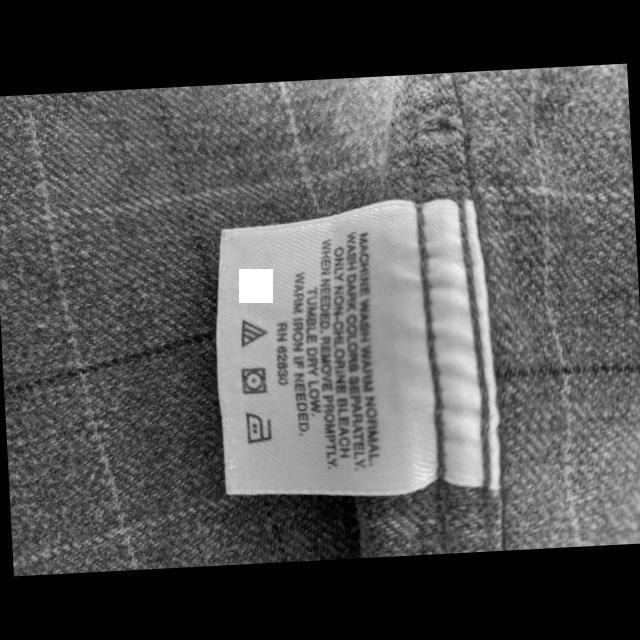iron_medium: (241, 408, 276, 446)
non_chlorine_bleach: (236, 316, 271, 350)
tumble_dry_low: (238, 362, 270, 397)
